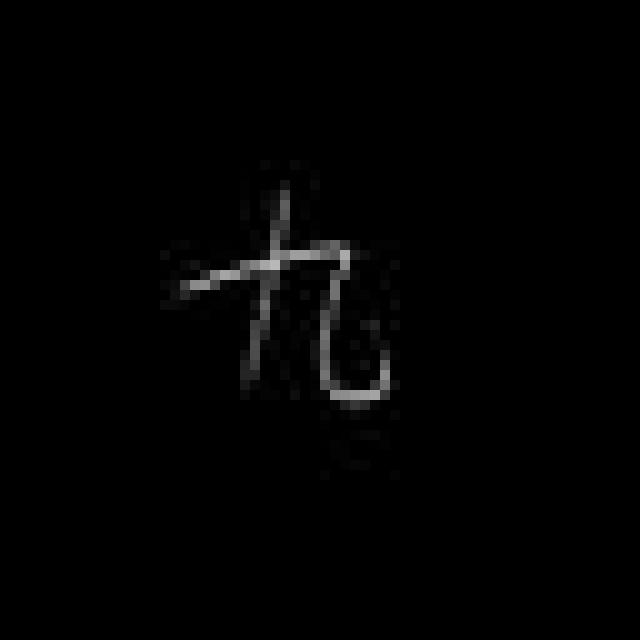9 -nine-: (176, 188, 403, 412)
